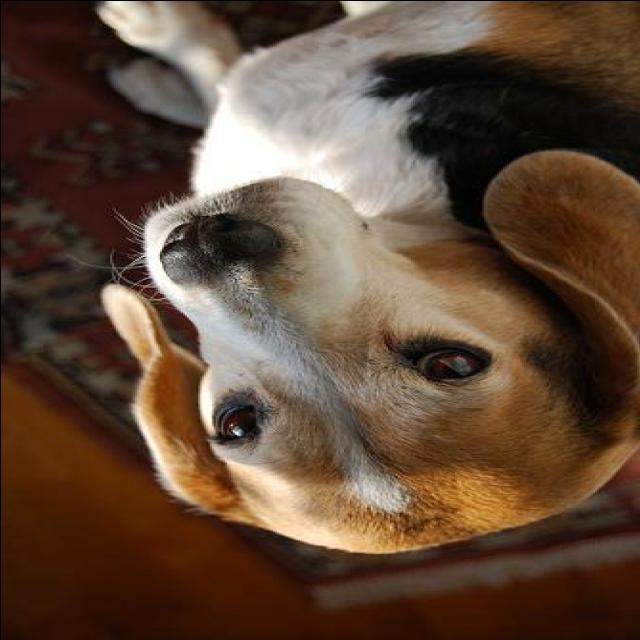beagle: (88, 2, 640, 556)
